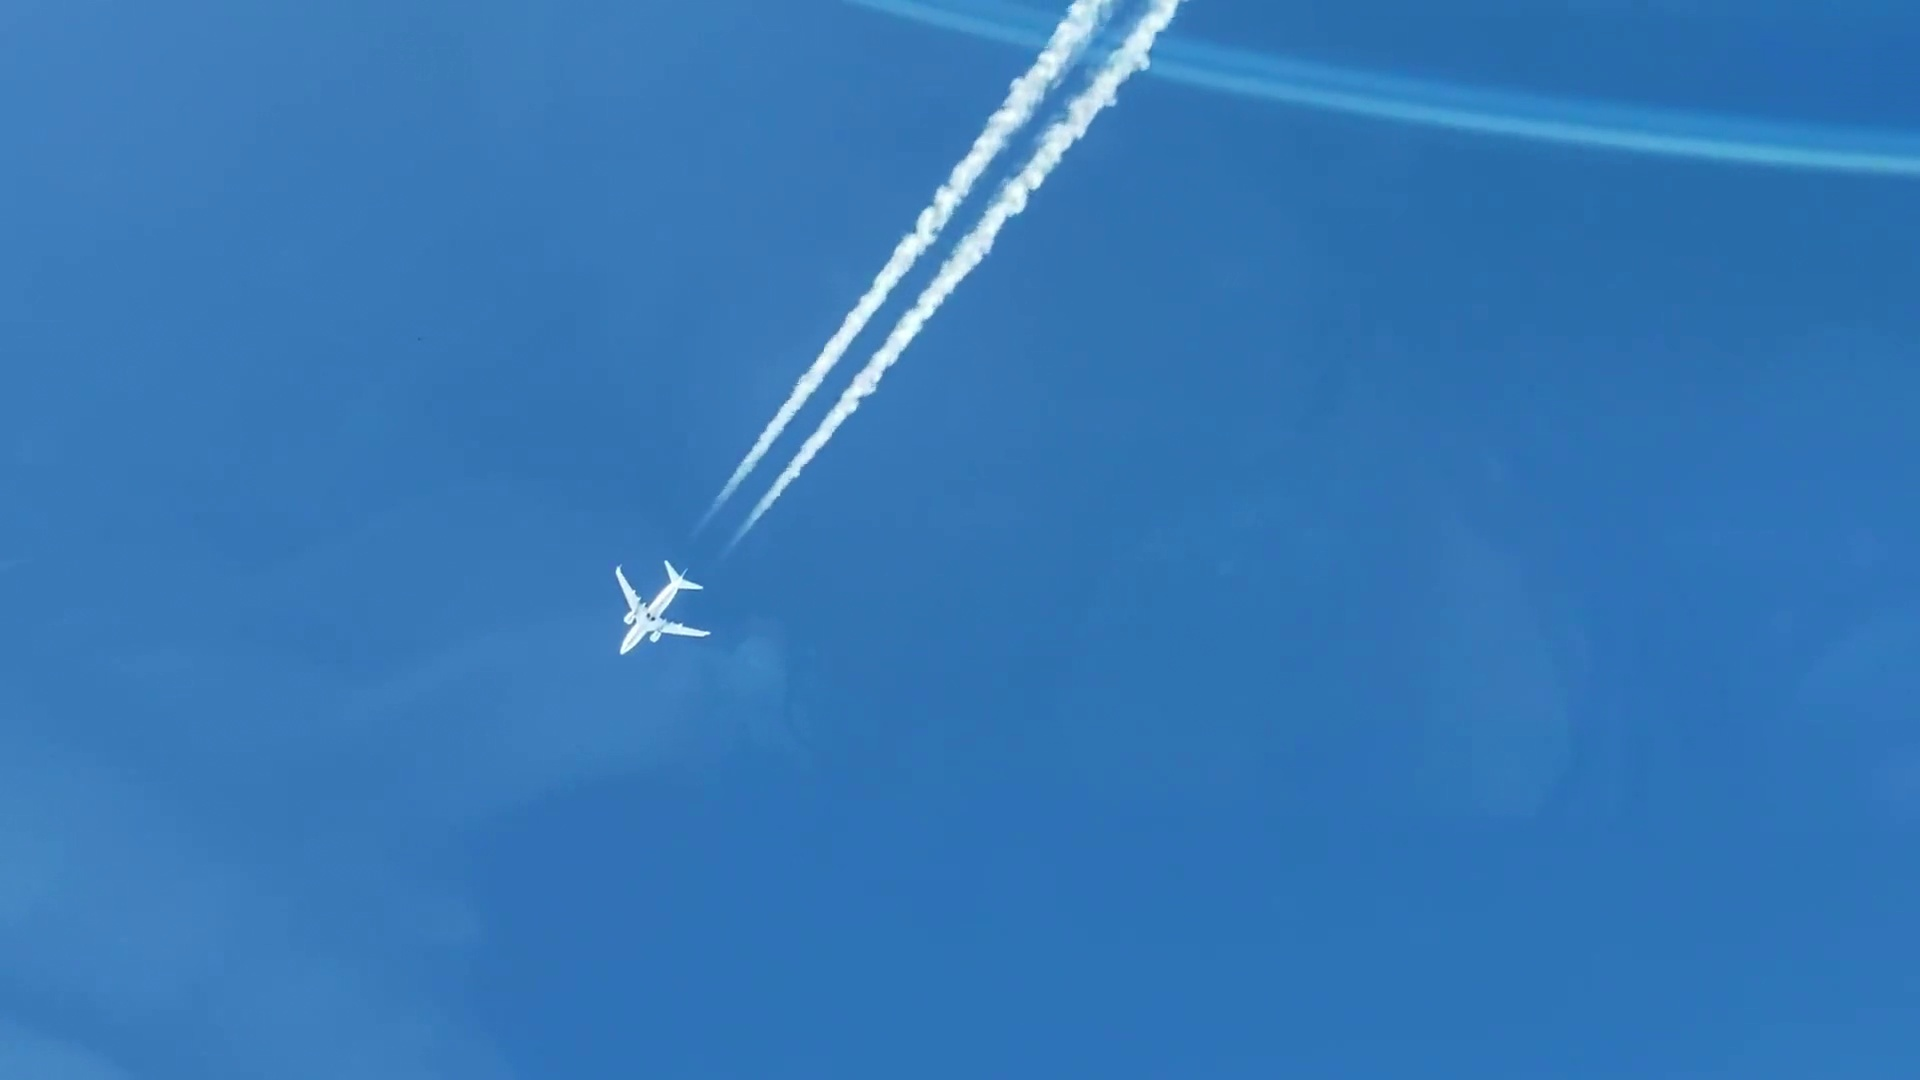plane: (613, 558, 711, 657)
